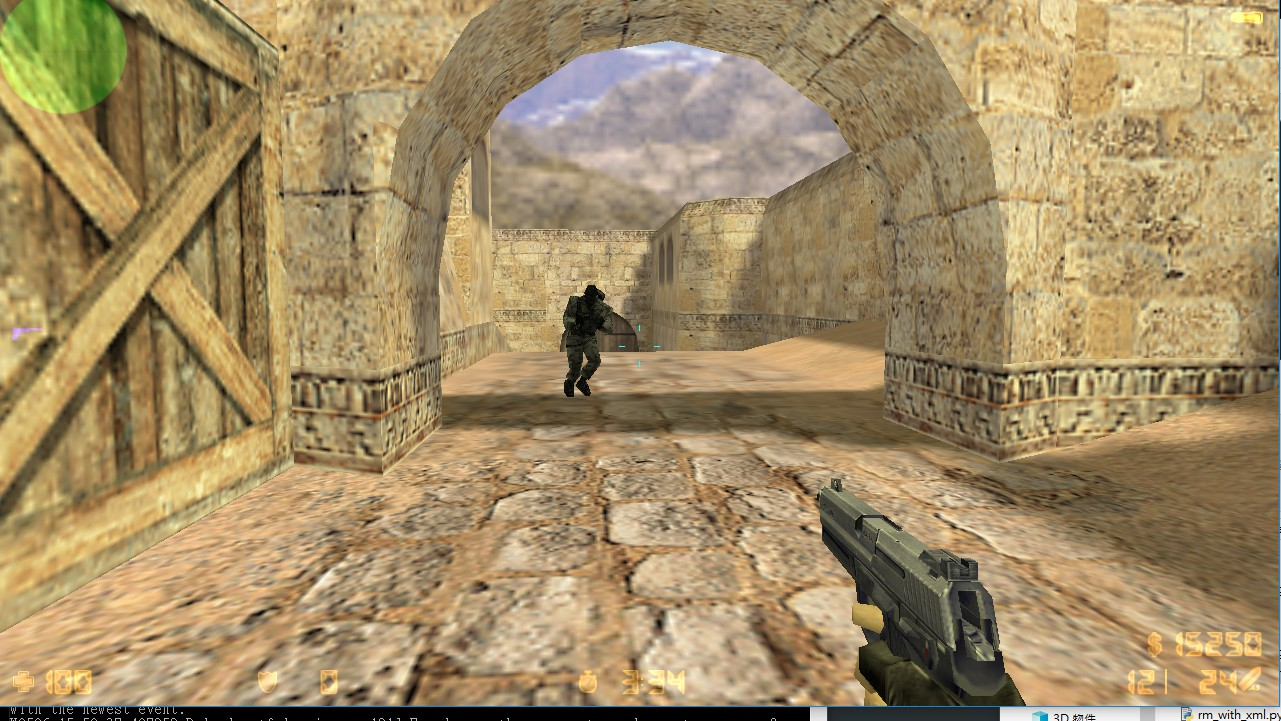person: (551, 282, 612, 400)
